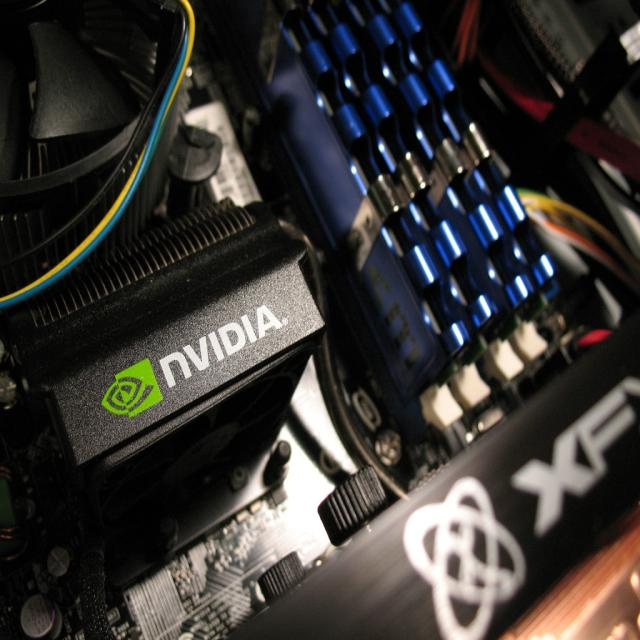nvidia: (100, 358, 165, 419)
